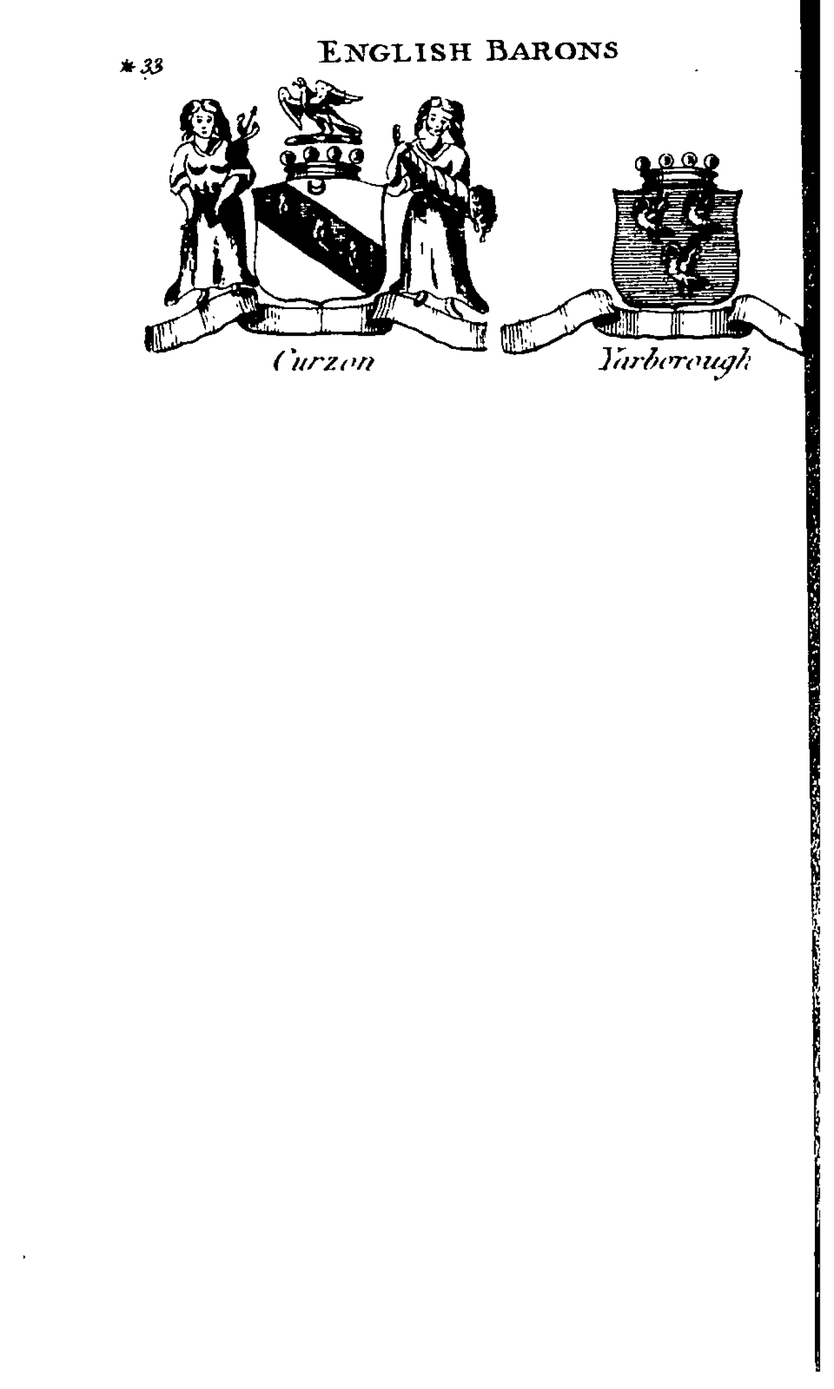coat_of_arms: (159, 71, 495, 380), (504, 105, 811, 392)
